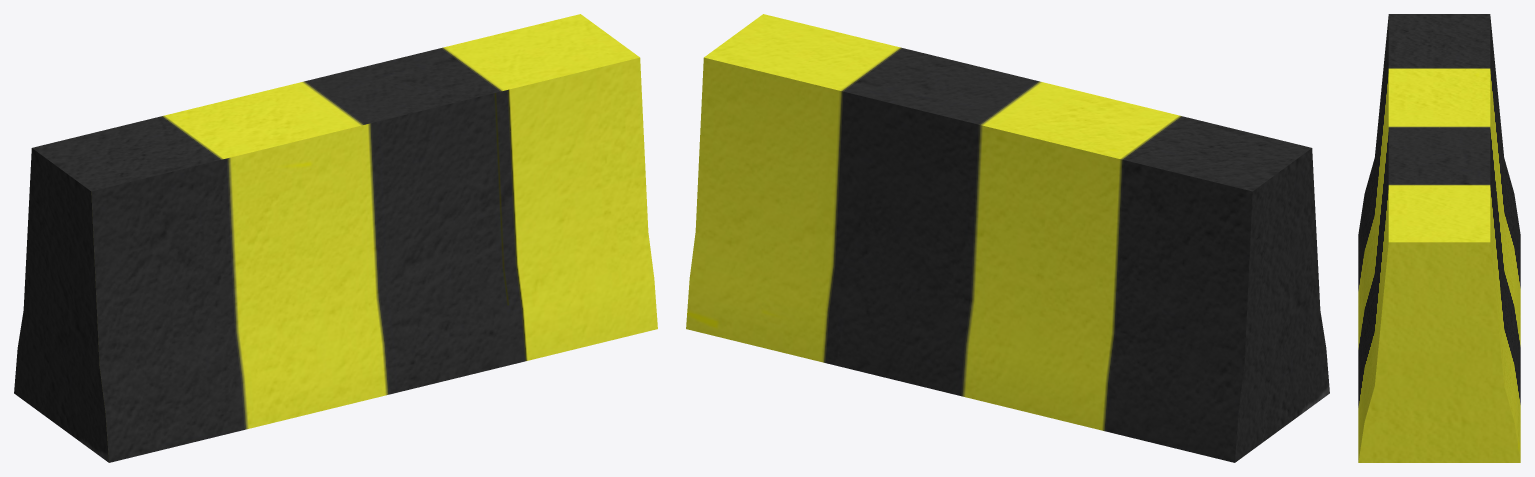
File: City_Protective_Wall_0222.FBX
The picture shows the model from 3 angles, left to right: view 1: azimuth 30°, elevation 25°; view 2: azimuth 150°, elevation 25°; view 3: azimuth 270°, elevation 25°; orthographic projection. The views are drawn at different scales.
Parts seen in each view (by area): view 1: Box004; view 2: Box004; view 3: Box004.
Part boxes in pixels (box(x1,y1,x2,y2)): Box004: box(14, 14, 657, 462); Box004: box(686, 14, 1329, 462); Box004: box(1358, 14, 1520, 462).
Size of the model in its own units: 200 by 90 by 60.
Materials: 1 (1 with a texture image).
